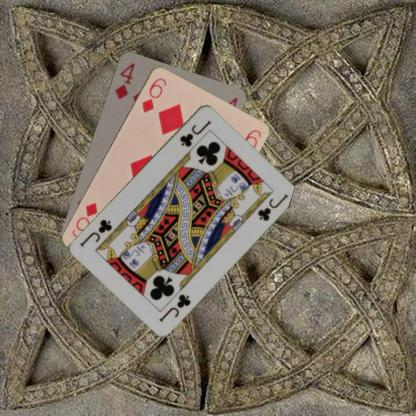4d: (112, 60, 136, 100)
6d: (138, 74, 168, 114)
Jc: (156, 291, 192, 323), (177, 118, 214, 148)
